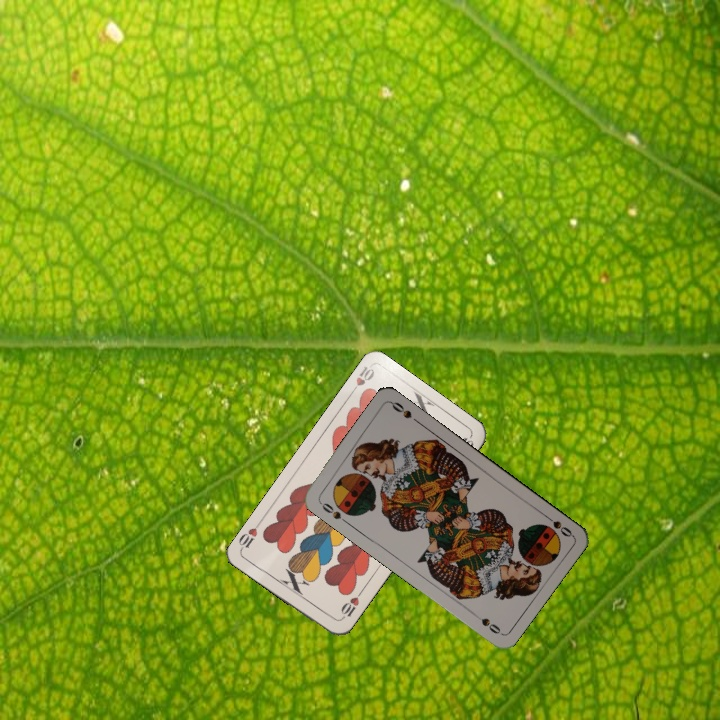H10: (346, 362, 377, 398), (336, 587, 365, 623)
SO: (540, 510, 575, 540), (315, 497, 350, 526)
